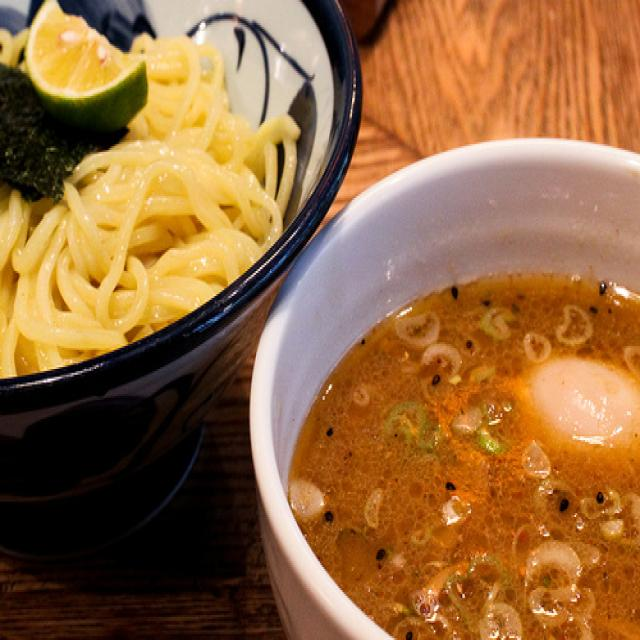面条主食: (0, 15, 640, 640)
